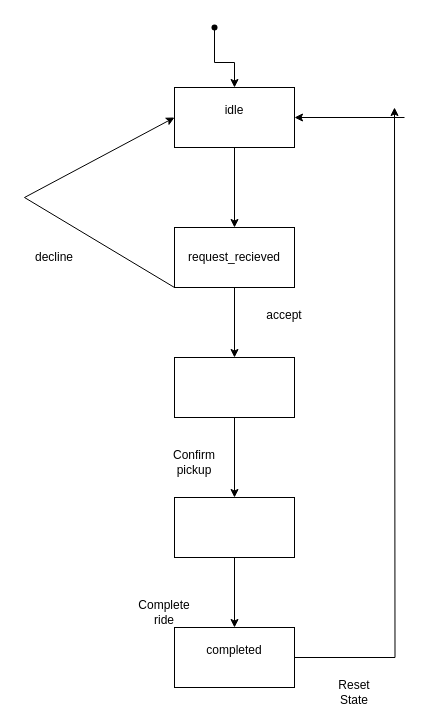
This 430x725 diagram has some shape labels left out. The shapes that lost their labels are listed below. From the top down, each one's centre as x and y in pixels, then its label:
At [234,387]: "driver_en_route".
At [234,527]: "ride_in_progress".
